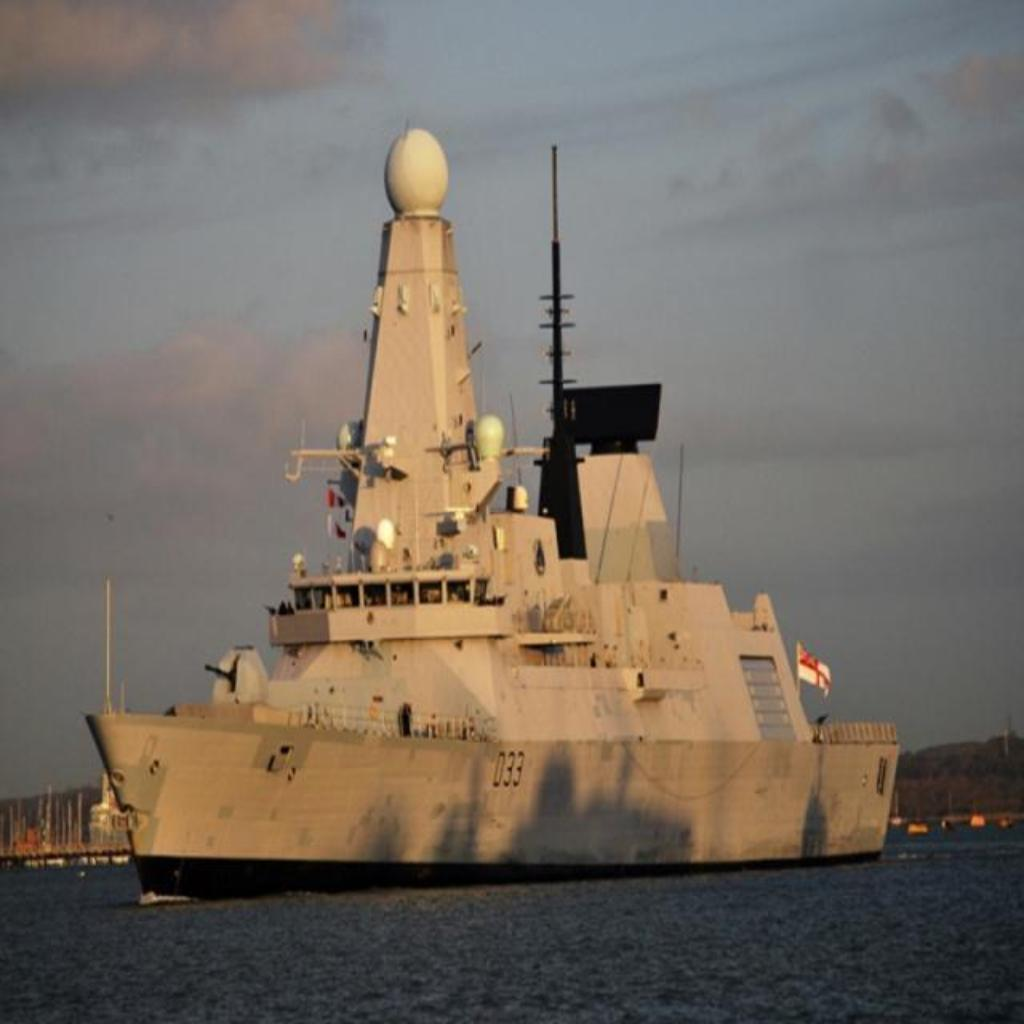Warship: (74, 108, 900, 912)
